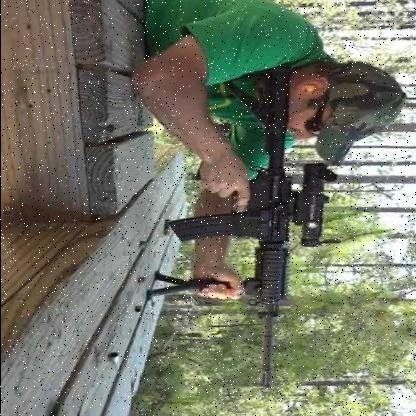rifle: (142, 46, 333, 403)
